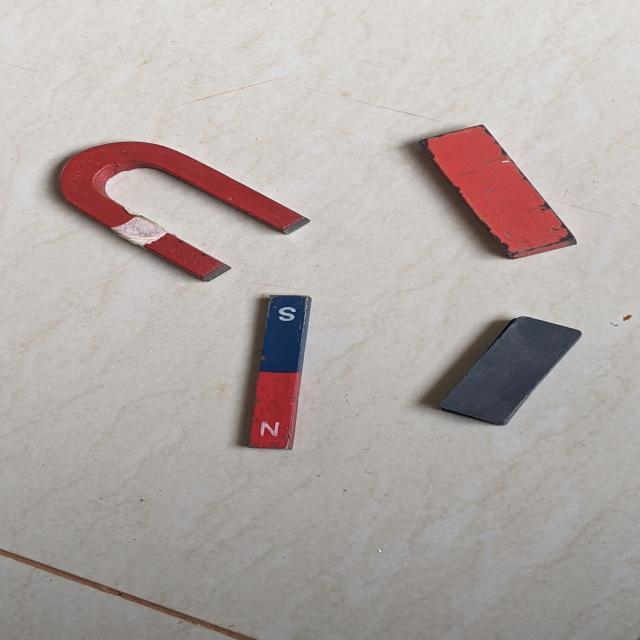Magnet: (50, 106, 594, 470)
